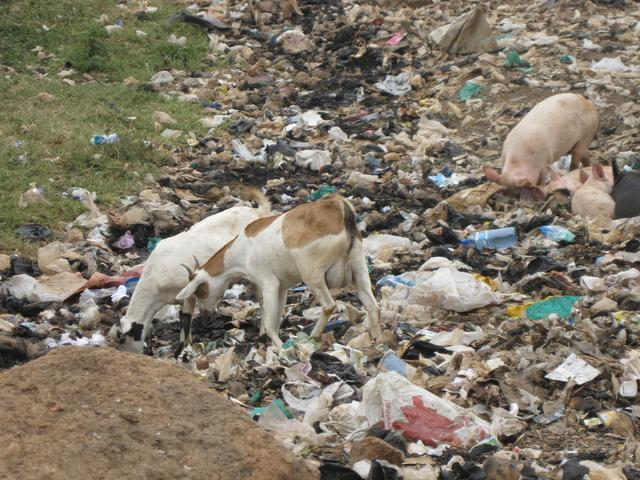garbage: (393, 248, 621, 469), (237, 22, 392, 184)
